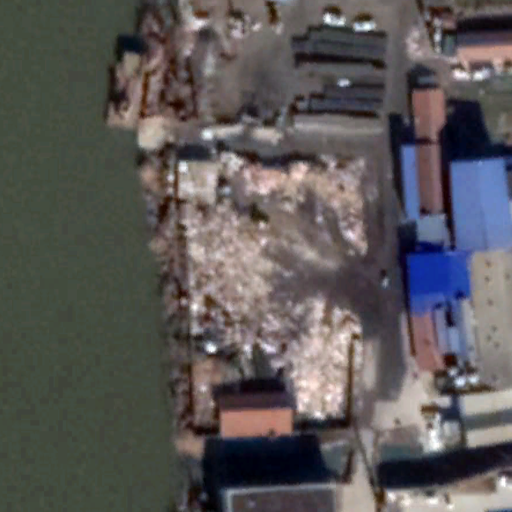msw: (180, 150, 366, 431)
